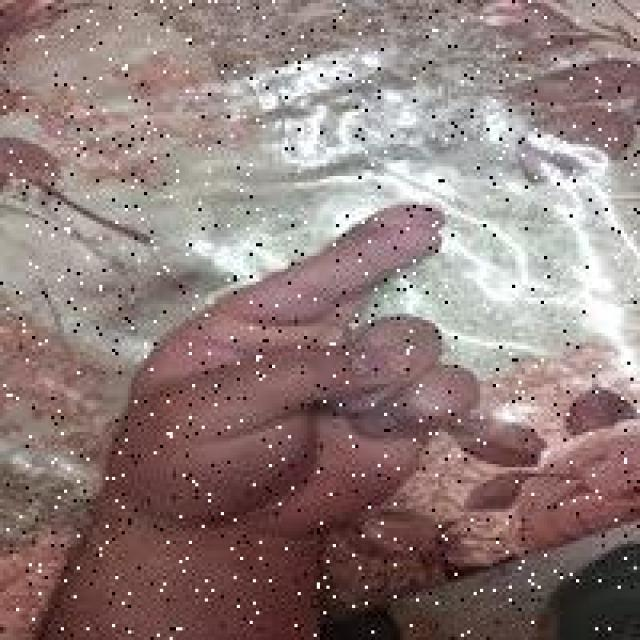R: (110, 198, 485, 544)
